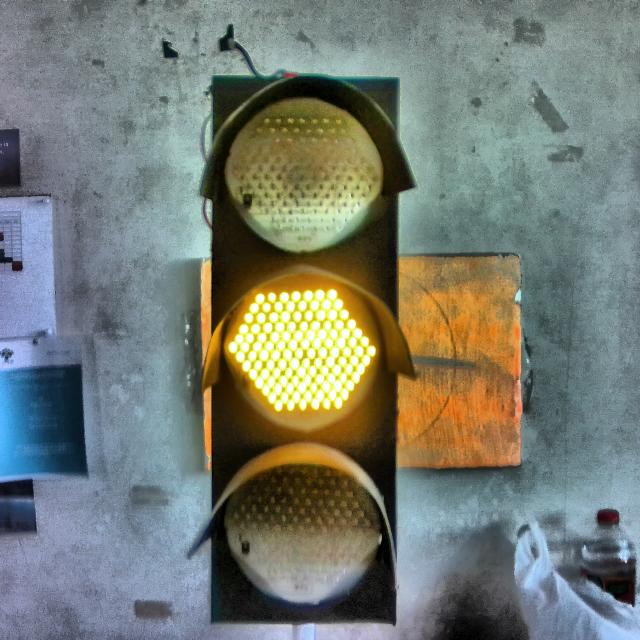yellow: (211, 75, 399, 623)
